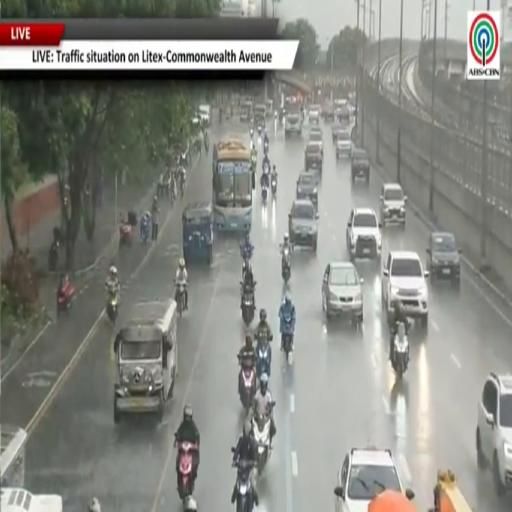bus: (213, 139, 252, 232), (0, 425, 27, 487)
car: (334, 447, 414, 511), (476, 373, 511, 495), (382, 251, 428, 329), (322, 262, 363, 324), (346, 208, 381, 260), (427, 232, 461, 283), (289, 200, 318, 251), (380, 183, 407, 227), (296, 172, 318, 210), (351, 148, 370, 184), (305, 142, 323, 172), (335, 129, 353, 159), (308, 126, 323, 152), (254, 104, 266, 127), (198, 104, 211, 125), (331, 122, 343, 143), (337, 105, 350, 124), (322, 101, 333, 121), (309, 105, 320, 124)
jeepney: (114, 299, 178, 423), (0, 488, 62, 511)
motorcycle: (178, 442, 197, 500), (252, 415, 270, 474), (234, 459, 254, 511), (391, 323, 409, 378), (239, 366, 256, 410), (56, 280, 75, 314), (282, 312, 294, 362), (256, 340, 271, 378), (242, 290, 255, 326), (106, 291, 118, 325), (48, 240, 59, 271), (119, 222, 133, 246), (176, 283, 185, 316), (141, 214, 151, 243), (282, 247, 290, 283), (183, 495, 197, 511), (178, 167, 185, 198), (242, 254, 250, 280), (271, 175, 276, 196), (262, 160, 269, 173), (262, 185, 267, 202), (251, 153, 257, 167), (264, 141, 269, 154), (258, 125, 262, 137)
truck: (430, 471, 473, 511), (285, 102, 302, 136)
